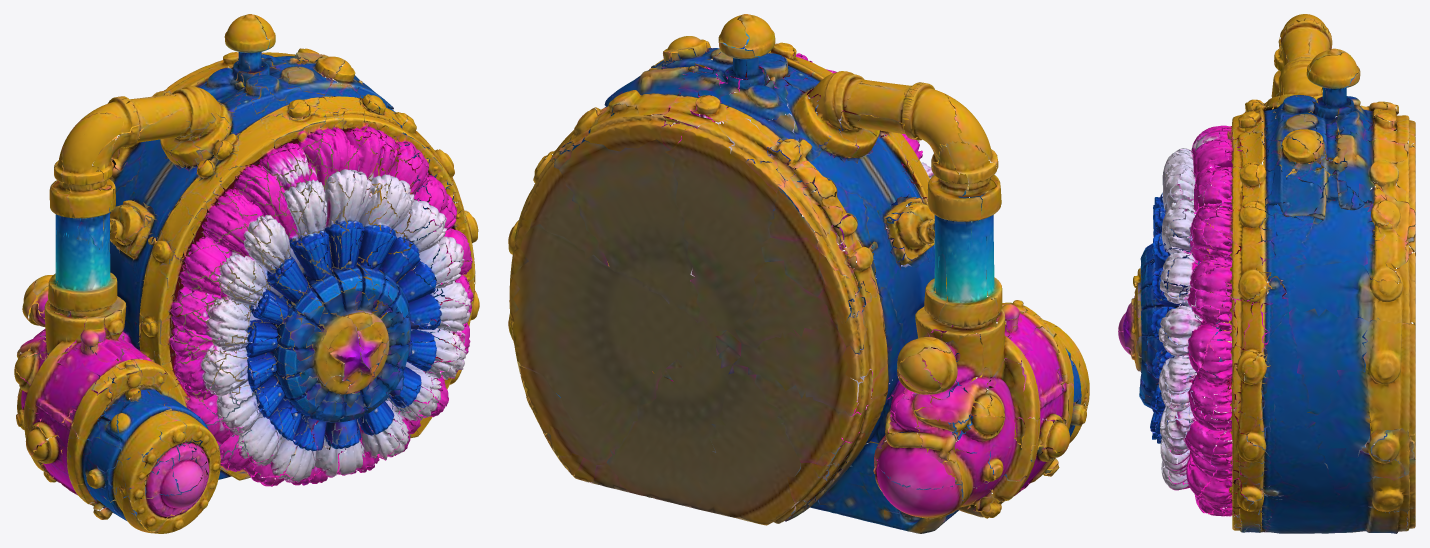
File: machinery.glb
The picture shows the model from 3 angles, left to right: view 1: azimuth 30°, elevation 25°; view 2: azimuth 150°, elevation 25°; view 3: azimuth 270°, elevation 25°; orthographic projection. The views are drawn at different scales.
Parts seen in each view (by area): view 1: SideMachinery; view 2: SideMachinery; view 3: SideMachinery.
Part boxes in pixels (x1,y1,x2,y2): SideMachinery: [14, 14, 479, 533]; SideMachinery: [508, 14, 1089, 533]; SideMachinery: [1118, 14, 1415, 533].
Bounding box in the file's own units: 1.88 × 1.72 × 1.08.
1 material, 1 textured.
